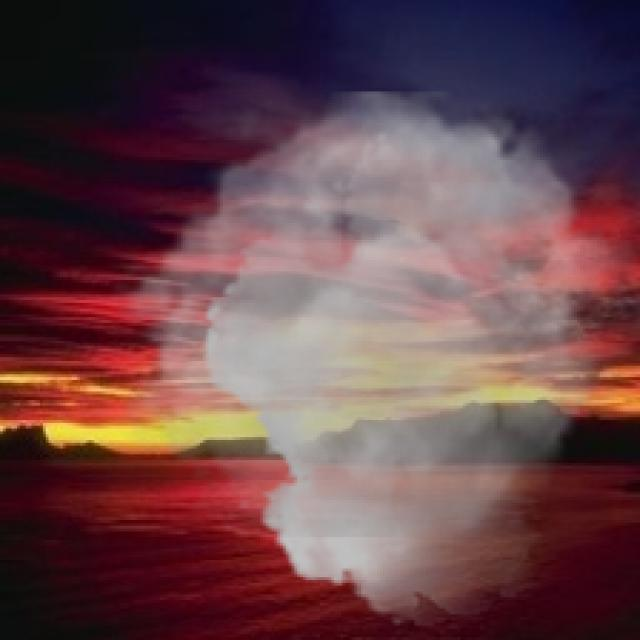Smoke: (105, 91, 638, 626)
